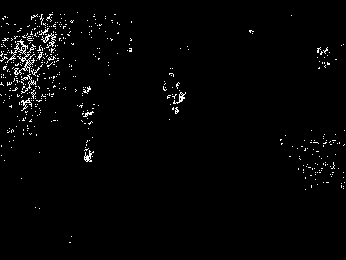person: (163, 66, 187, 115)
